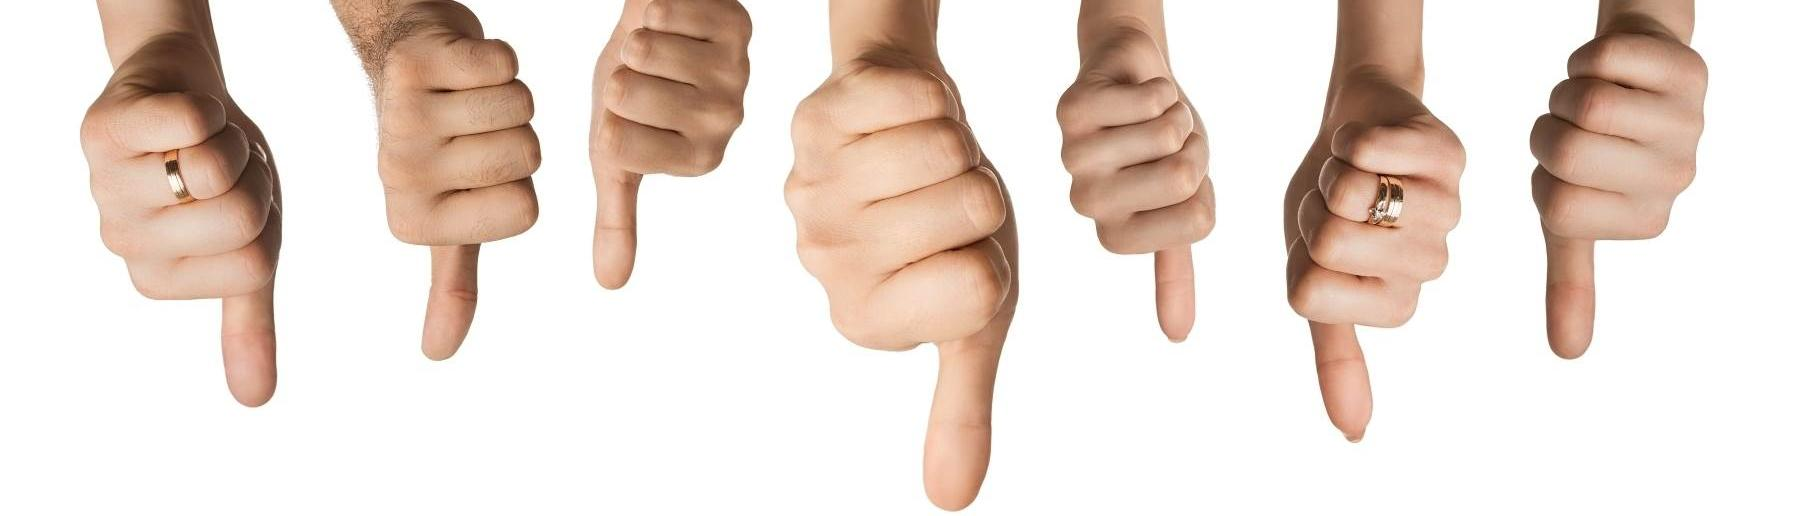thumbsdown: (778, 43, 1025, 510), (80, 44, 286, 413), (1275, 84, 1472, 447), (1524, 21, 1717, 362), (370, 23, 548, 365), (1054, 41, 1221, 348), (585, 0, 757, 293)
